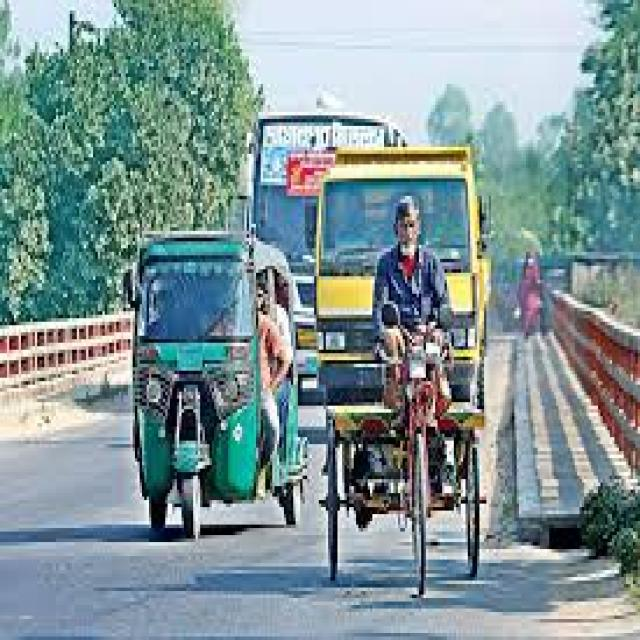bicycle: (326, 196, 482, 595)
bus: (254, 112, 400, 402)
person: (372, 196, 449, 406), (261, 315, 286, 462), (519, 255, 538, 336)
three wheeler: (133, 231, 303, 539)
truck: (317, 147, 484, 406)
